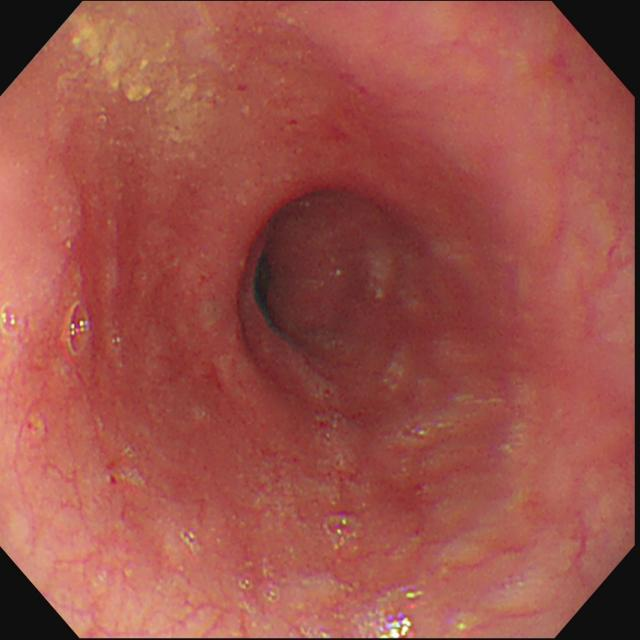E: (234, 179, 398, 389)
J: (64, 4, 204, 149)
T: (63, 297, 95, 359), (323, 512, 365, 547)
U: (380, 615, 414, 638)
